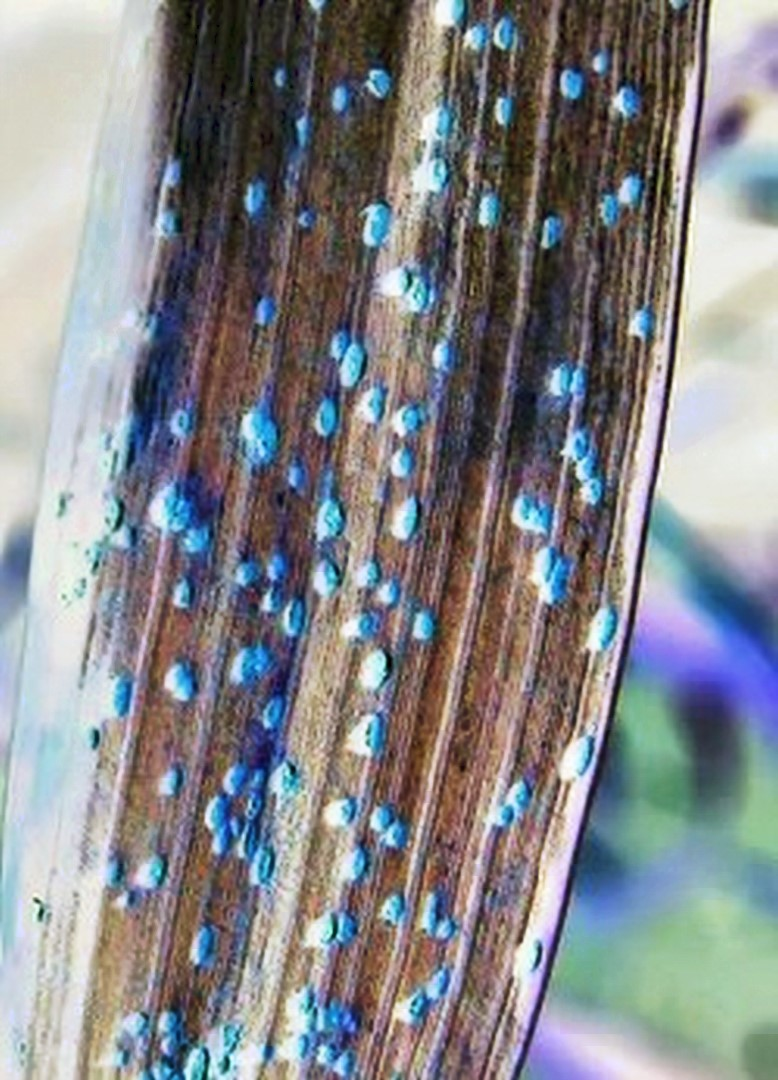Leaf Rust: (54, 50, 688, 1059)
